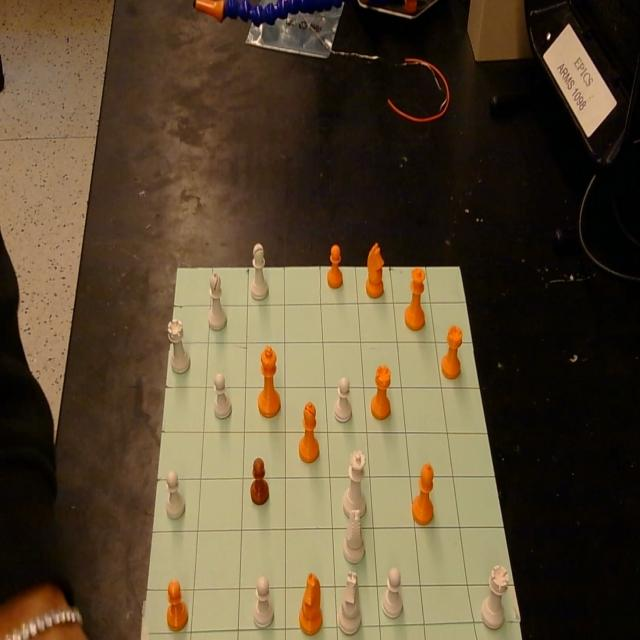orange_bishop: (411, 462, 435, 526), (298, 401, 320, 462)
orange_king: (258, 344, 281, 418)
orange_knight: (299, 572, 323, 634), (365, 242, 385, 298)
orange_pawn: (166, 578, 188, 632), (250, 457, 269, 505), (328, 244, 343, 289)
orange_queen: (404, 268, 426, 332)
orange_rook: (441, 324, 463, 380), (371, 364, 391, 420)
white_bishop: (208, 270, 227, 330), (250, 243, 268, 301)
white_knight: (338, 570, 361, 633), (342, 507, 364, 563)
white_pawn: (253, 575, 274, 628), (382, 566, 403, 618), (166, 468, 186, 518), (213, 372, 232, 420), (334, 377, 352, 423)
white_queen: (343, 450, 366, 518)
white_rook: (481, 564, 508, 628), (167, 317, 190, 373)
